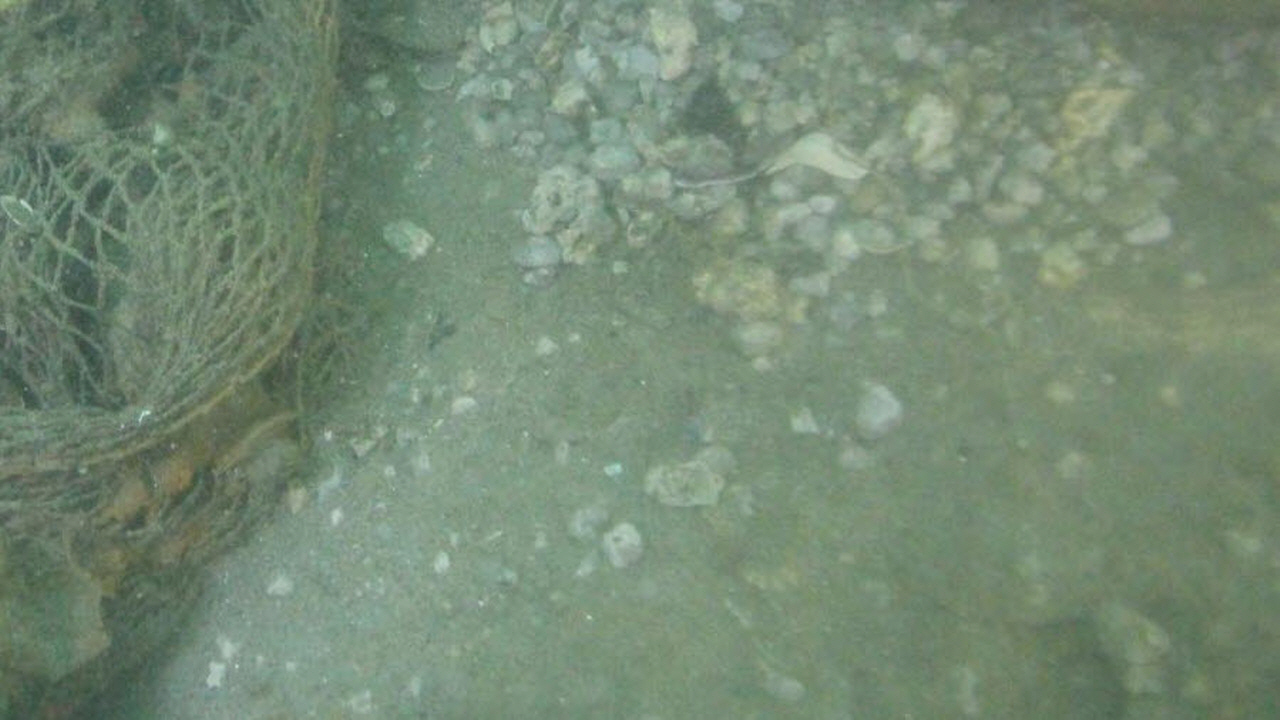fish net: (0, 0, 340, 542)
